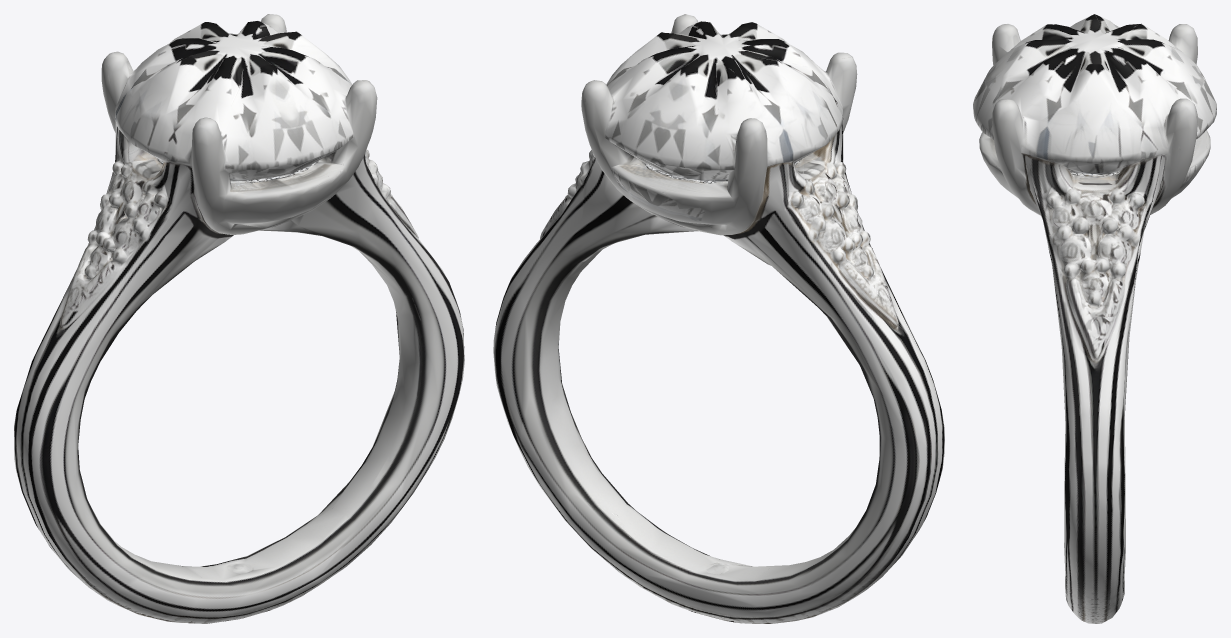
Rendered from celeste_crown.glb.
3 renders of one model, left to right at view 1: azimuth 30°, elevation 25°; view 2: azimuth 150°, elevation 25°; view 3: azimuth 270°, elevation 25°, orthographic.
Parts seen in each view (by area): view 1: Mesh1.0; view 2: Mesh1.0; view 3: Mesh1.0.
Boxes of the visible parts, box(x1,y1,x2,y2) form: Mesh1.0: box(14, 14, 464, 623); Mesh1.0: box(493, 14, 944, 623); Mesh1.0: box(973, 14, 1216, 623).
Bounding box in the file's own units: 1.53 × 1.91 × 0.7545.
1 material, 1 textured.
